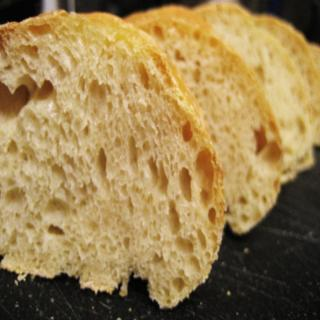Bread: (0, 0, 320, 308), (123, 5, 284, 234), (193, 0, 314, 184), (253, 17, 320, 143)
